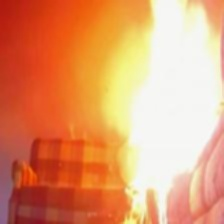fire: (109, 0, 223, 213)
